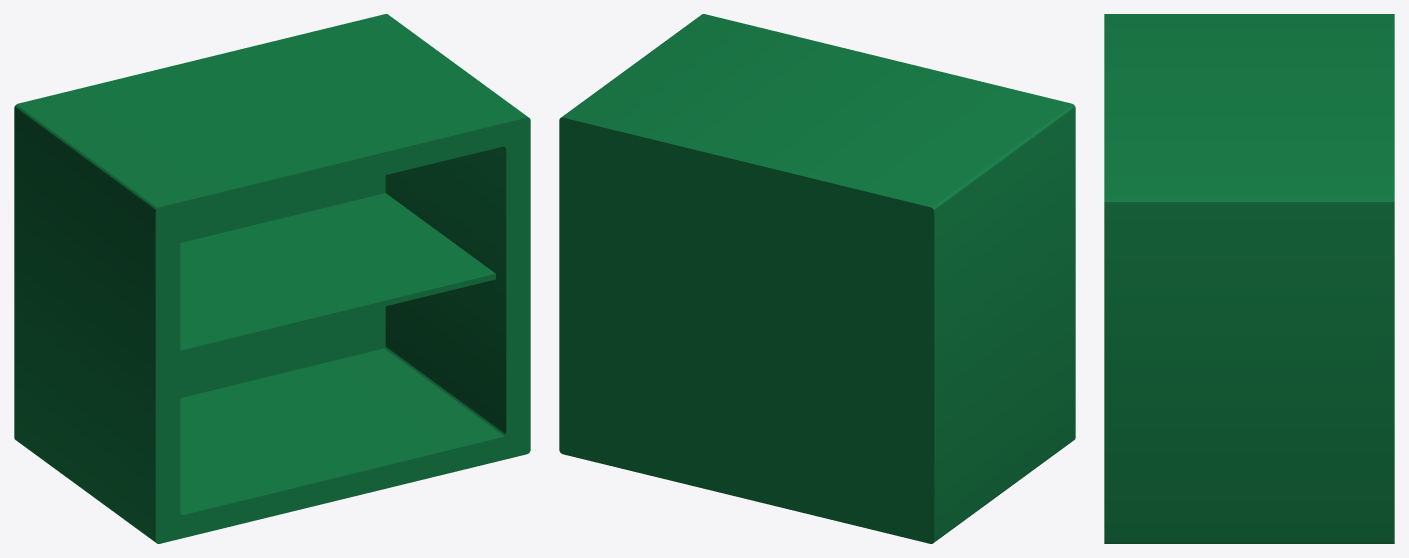
The model's file is Copy of GG_SAFE_COMPLETE.FBX.
The picture shows the model from 3 angles, left to right: view 1: azimuth 30°, elevation 25°; view 2: azimuth 150°, elevation 25°; view 3: azimuth 270°, elevation 25°; orthographic projection. The views are drawn at different scales.
Visible parts, largest first — view 1: Cylinder060; view 2: Cylinder060; view 3: Cylinder060.
Boxes of the visible parts, x1=… form: Cylinder060: x1=14, y1=14, x2=530, y2=543; Cylinder060: x1=559, y1=14, x2=1075, y2=543; Cylinder060: x1=1104, y1=14, x2=1394, y2=543.
Size of the model in its own units: 37.98 by 32.59 by 24.83.
